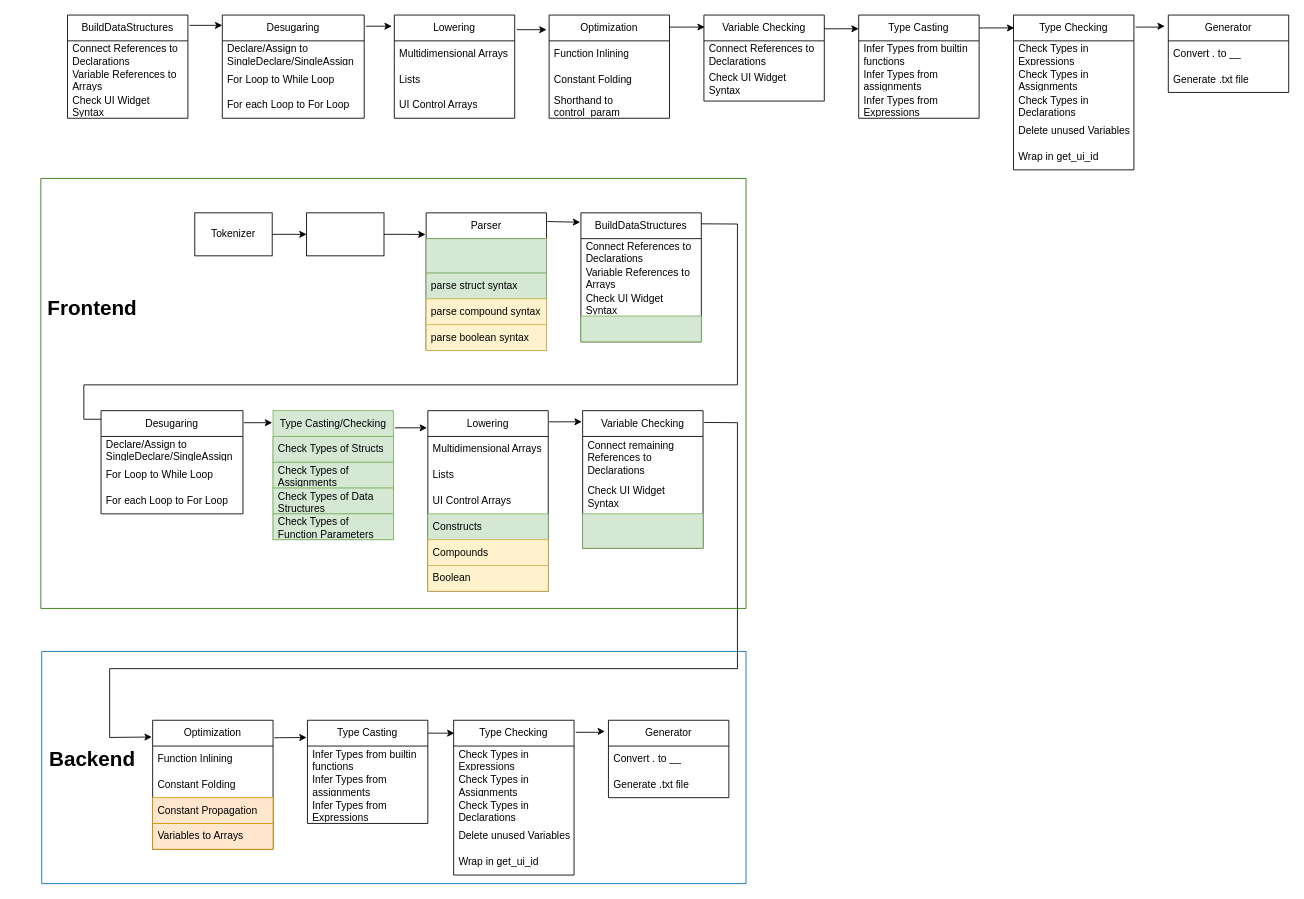
Some shapes in this 1304 by 899 pixel diagram are drawn without their labels. Here are the shapes that lost their labels. From the top down, the centre of each, then its label:
the point at 345,234: Preprocessor
the point at 486,255: new type parsing (<var>:<type>)
the point at 640,328: Check Variable Scopes
the point at 642,530: dynamic scoping to lexical scoping
